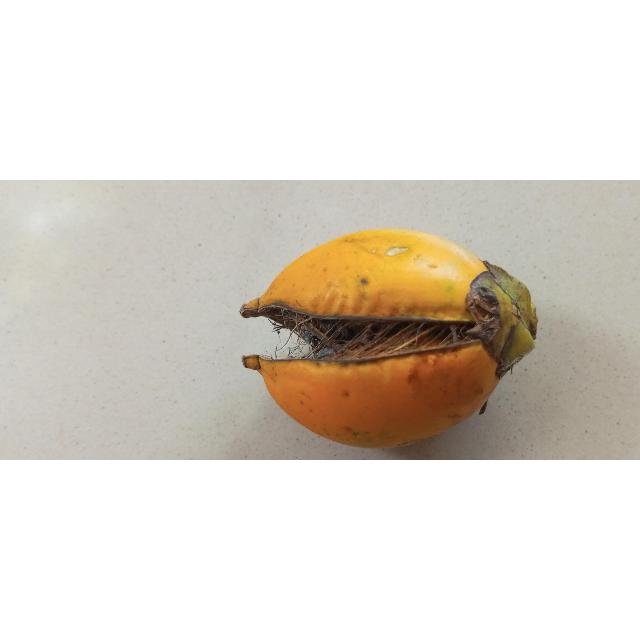damaged: (240, 229, 539, 450)
